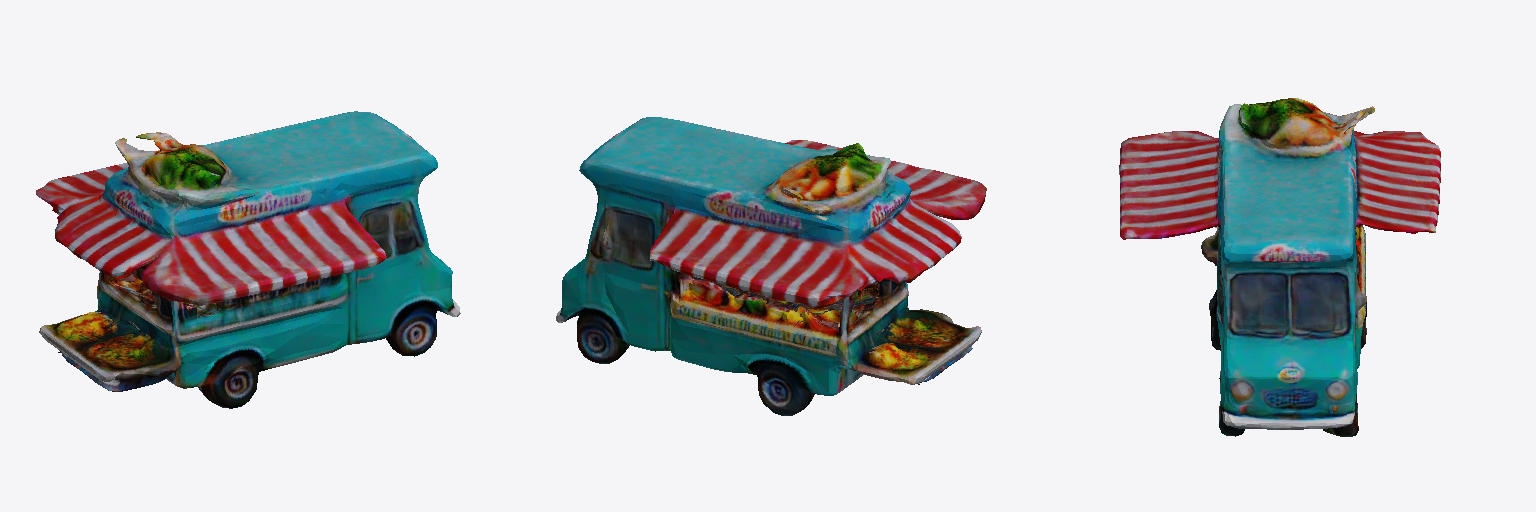
3 renders of one model, left to right at view 1: azimuth 30°, elevation 25°; view 2: azimuth 150°, elevation 25°; view 3: azimuth 270°, elevation 25°, orthographic.
Visible parts, largest first — view 1: mesh; view 2: mesh; view 3: mesh.
Boxes of the visible parts, x1=… form: mesh: x1=36, y1=111, x2=460, y2=408; mesh: x1=556, y1=117, x2=986, y2=415; mesh: x1=1119, y1=98, x2=1440, y2=436.
Bounding box in the file's own units: 0.9998 × 0.6153 × 0.756.
1 materials, 1 textured.